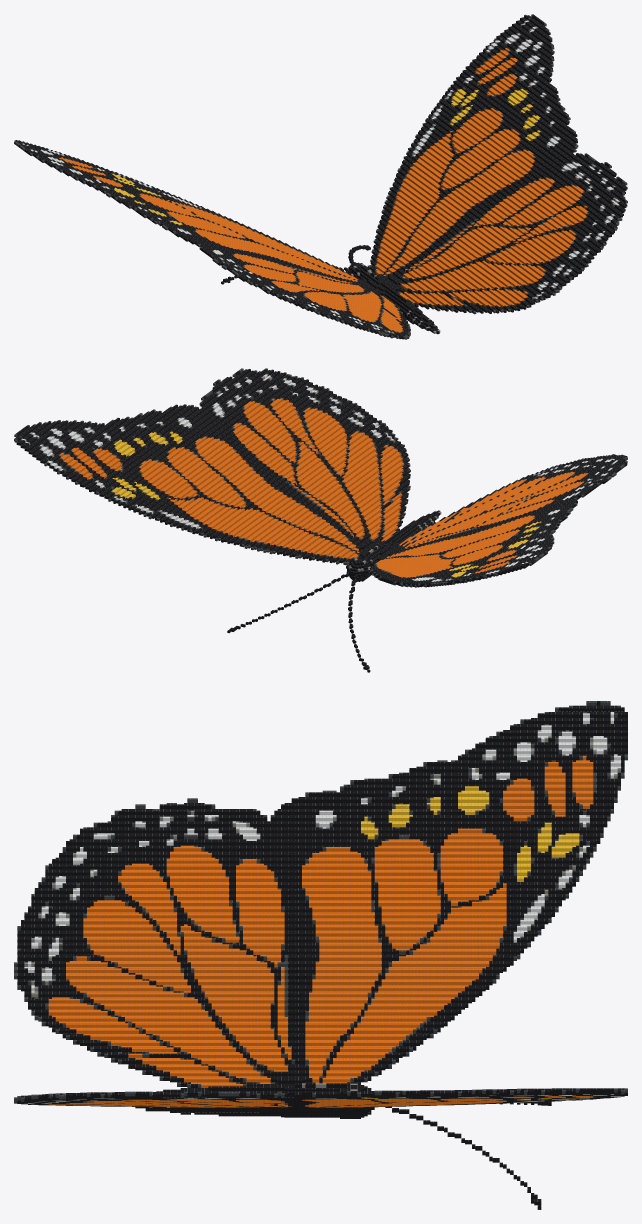
Rendered from butterfly.glb.
3 renders of one model, top to bottom at view 1: azimuth 30°, elevation 25°; view 2: azimuth 150°, elevation 25°; view 3: azimuth 270°, elevation 25°, orthographic. The views are drawn at different scales.
Visible parts, largest first — view 1: Object_73, Object_11, Object_21, Object_47, Object_67, Object_25, Object_43, Object_57, Object_15, Object_19, Object_9, Object_33 (+22 smaller); view 2: Object_67, Object_25, Object_21, Object_73, Object_47, Object_11, Object_43, Object_15, Object_57, Object_33, Object_19, Object_9 (+24 smaller); view 3: Object_61, Object_77, Object_95, Object_49, Object_93, Object_75, Object_87, Object_97, Object_113, Object_65, Object_51, Object_119 (+23 smaller).
Boxes of the visible parts, box(x1,y1,x2,y2) form: Object_73: box(529, 179, 627, 253); Object_11: box(420, 99, 519, 173); Object_21: box(394, 174, 492, 248); Object_47: box(493, 152, 591, 226); Object_67: box(466, 227, 564, 301); Object_25: box(456, 126, 555, 199); Object_43: box(430, 200, 528, 274); Object_57: box(367, 249, 465, 319); Object_15: box(456, 26, 545, 98); Object_19: box(483, 51, 558, 125); Object_9: box(381, 147, 456, 221); Object_33: box(335, 222, 429, 284); Object_67: box(297, 417, 395, 491); Object_25: box(162, 422, 260, 496); Object_21: box(224, 470, 323, 544); Object_73: box(234, 369, 332, 443); Object_47: box(198, 395, 296, 469); Object_11: box(125, 448, 224, 522); Object_43: box(261, 444, 359, 517); Object_15: box(28, 427, 125, 494); Object_57: box(323, 492, 420, 553); Object_33: box(287, 518, 385, 586); Object_19: box(63, 417, 161, 474); Object_9: box(188, 497, 286, 554); Object_61: box(302, 895, 412, 992); Object_77: box(191, 895, 301, 992); Object_95: box(80, 895, 190, 992); Object_49: box(413, 895, 523, 995); Object_93: box(524, 701, 627, 798); Object_75: box(413, 827, 523, 895); Object_87: box(302, 827, 412, 895); Object_97: box(191, 827, 301, 895); Object_113: box(80, 827, 190, 895); Object_65: box(191, 1021, 301, 1087); Object_51: box(302, 1021, 412, 1083); Object_119: box(14, 895, 79, 992).
Bounding box in the file's own units: 265 × 84 × 177.
1 material, 1 textured.
